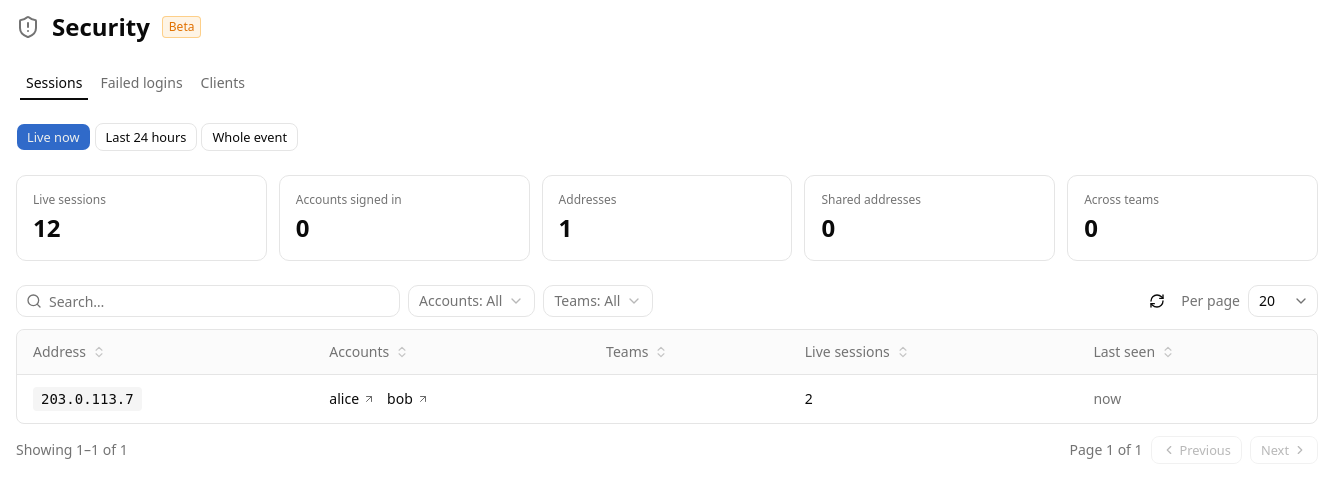
counts logins rather than live sessions outside live mode
The width and height of the screenshot is (1335, 481).
Click the button "Whole event" at (250,137), box [201,123,298,151]
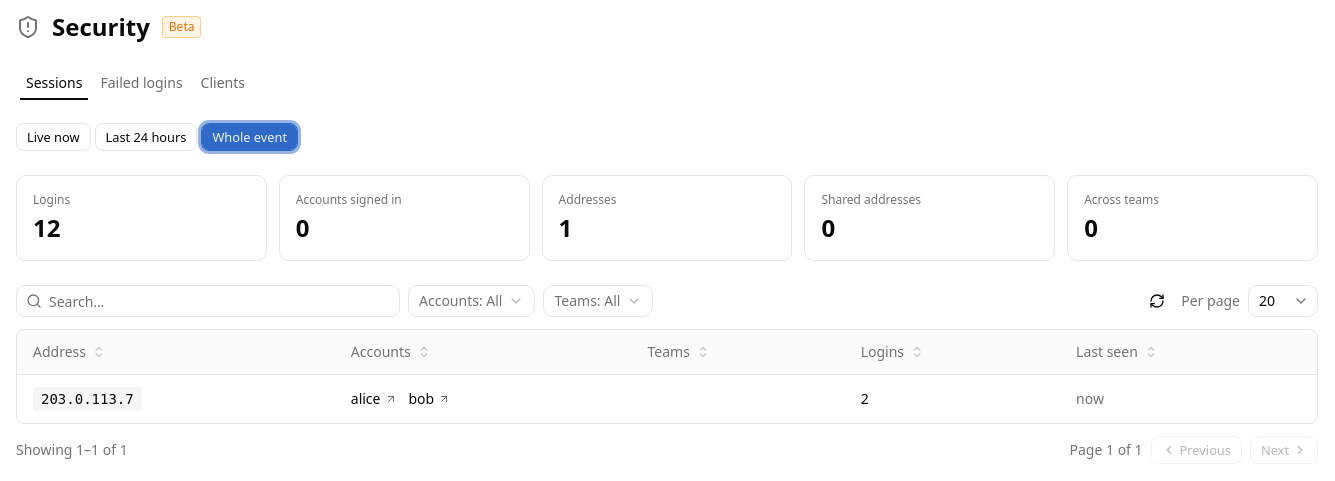
Expected: the text "Logins" is shown, [33,191,70,208]
Expected: the text "Live sessions" is gone
